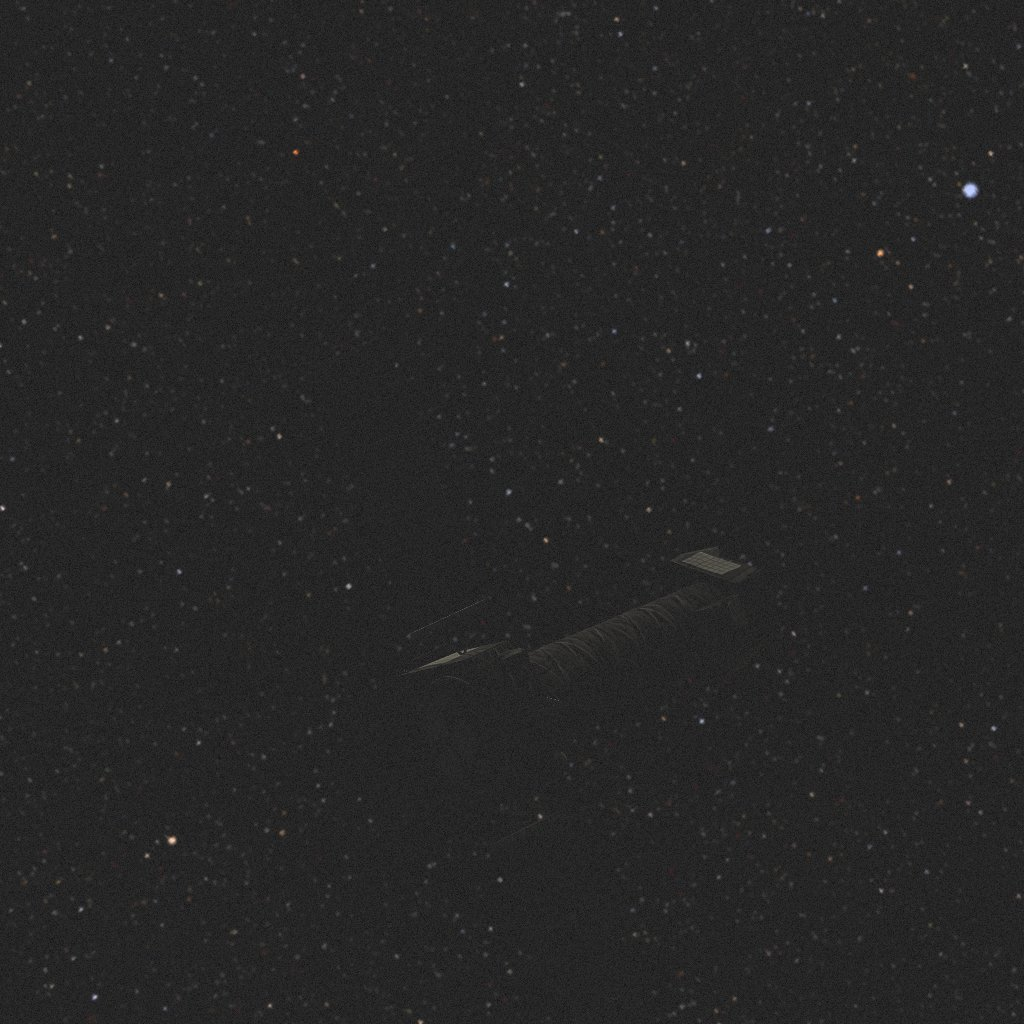xmm_newton: (310, 336, 783, 1024)
